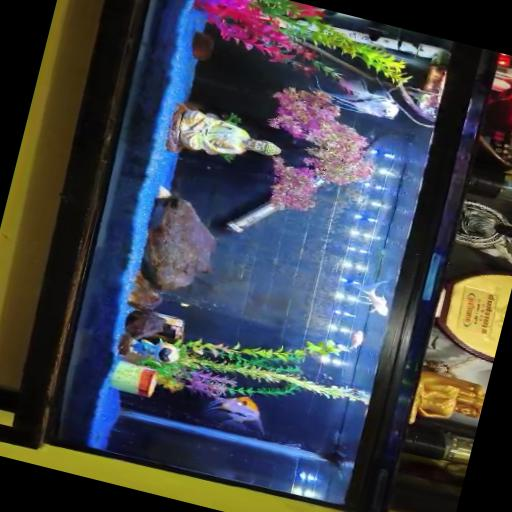Fish: (326, 79, 398, 118), (205, 395, 263, 432), (356, 280, 387, 315), (367, 21, 386, 40), (350, 330, 363, 348)
